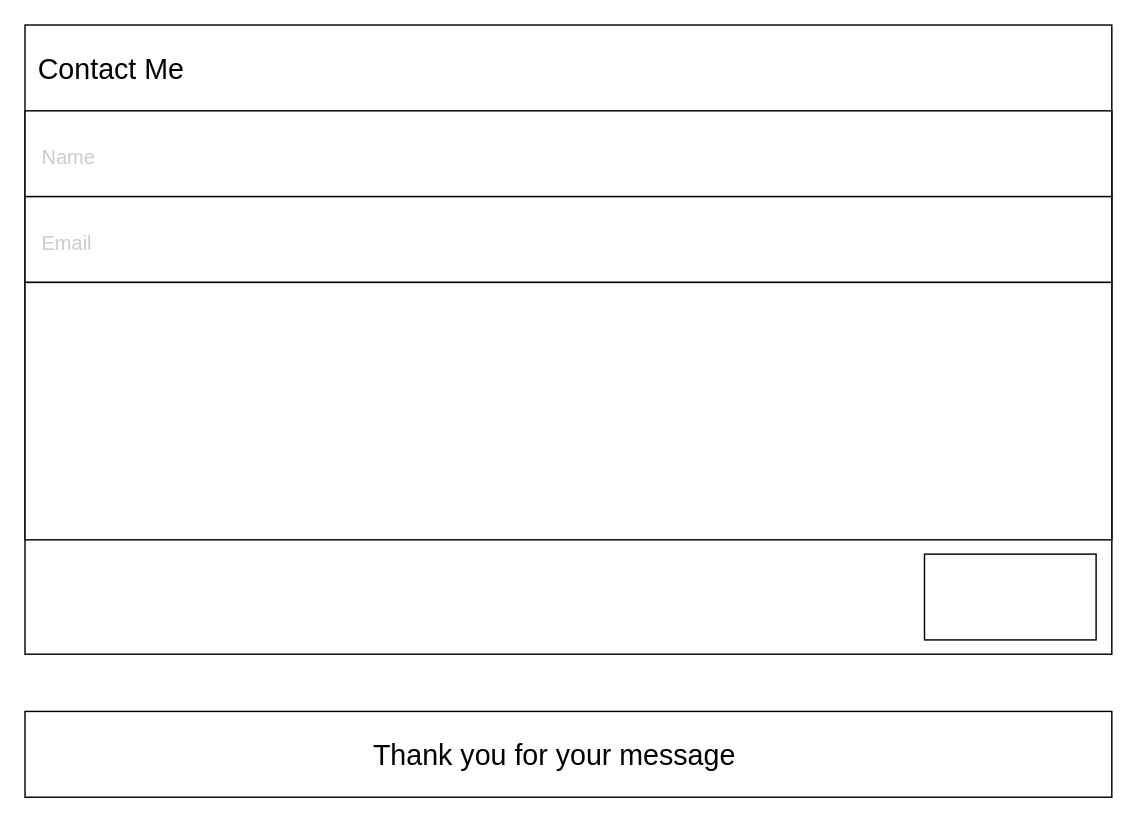
The diagram is 1137 pixels wide and 822 high, and some of its shapes have lost their labels. The centre of each missing label's shape, as x and y in pixels:
Message: [568,410]
Send: [1009,596]
